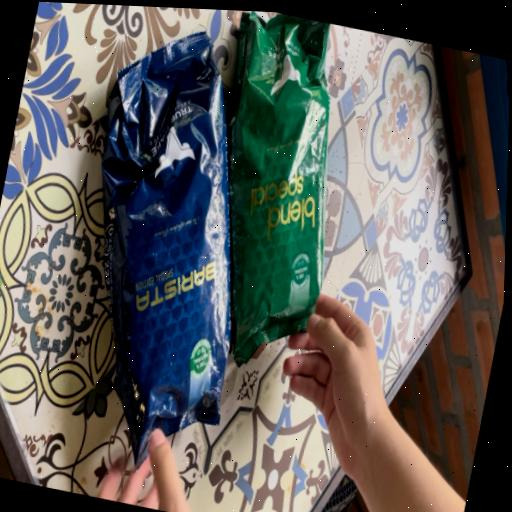cafe_hat: (100, 32, 230, 466)
cafe_xay: (226, 11, 329, 364)
